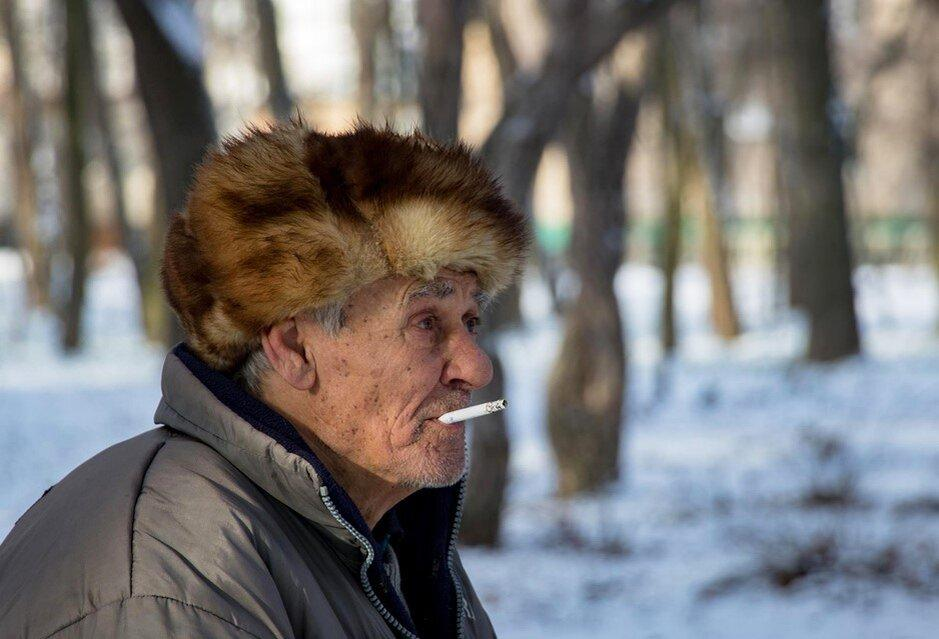cigarette: (438, 400, 508, 424)
